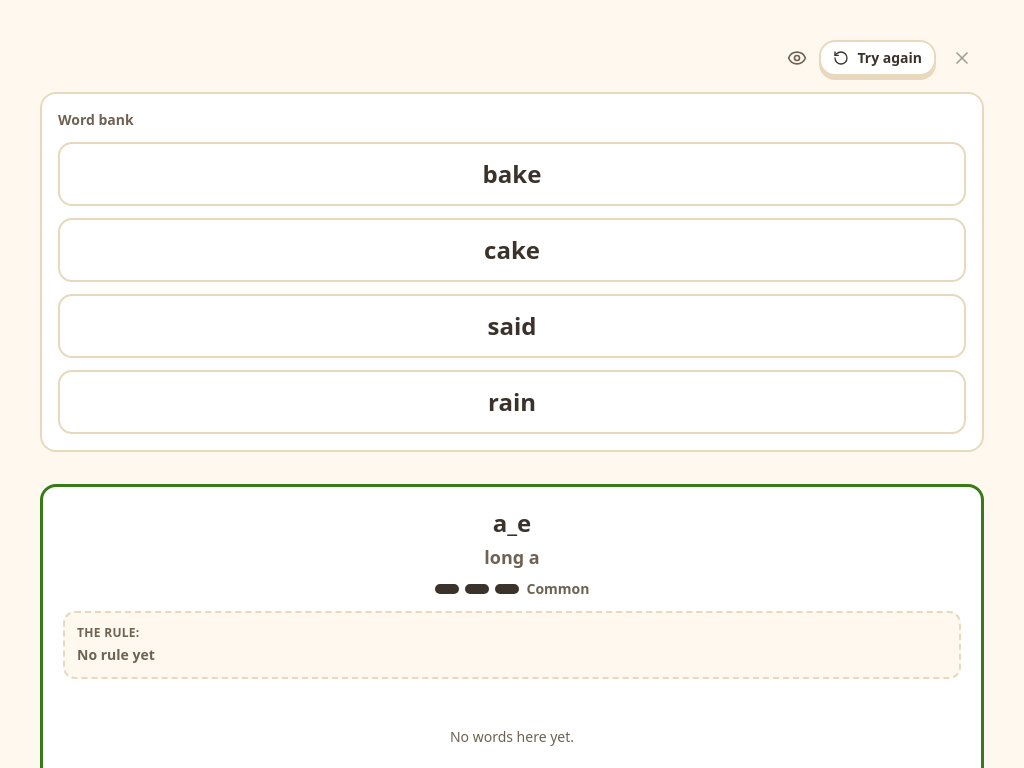
SortActivity on mobile › opens the placement bar with one destination per pattern when a word is tapped
This screenshot has width=1024, height=768.
Click the button with aria-label "Select the word cake": point(512, 250) [58,218,966,282]
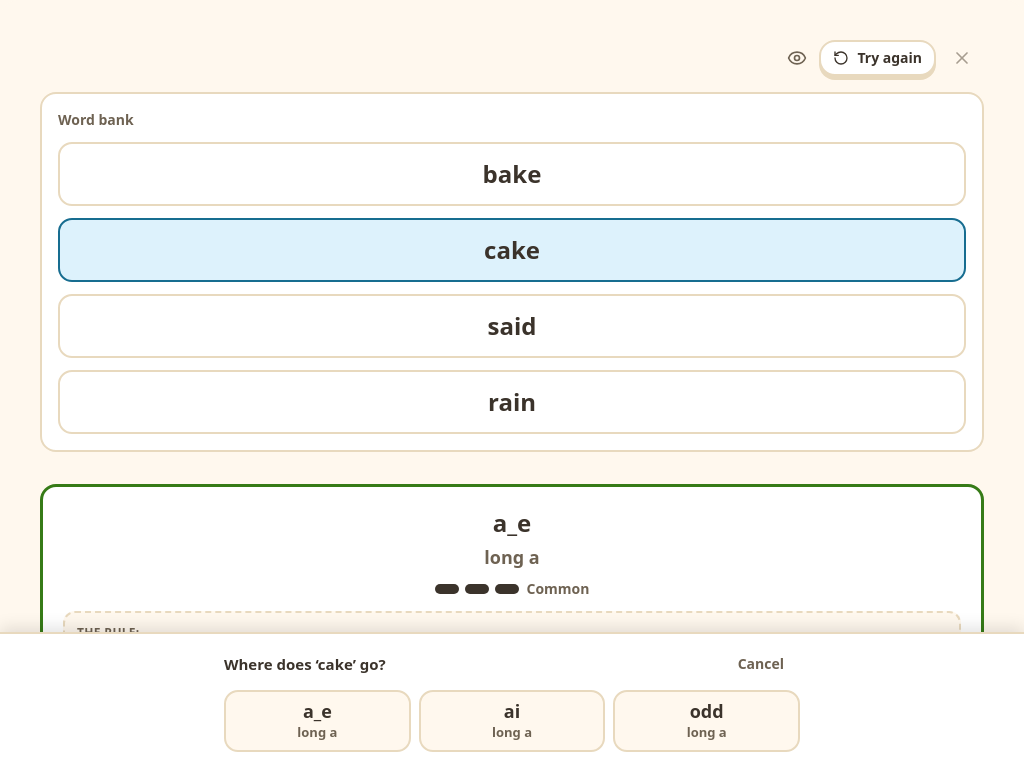
expect the element named "Choose where to put cake" is shown: met, box [0,632,1023,767]
expect the button with aria-label "Put cake in the a_e column" is shown: met, box [224,690,411,752]
expect the button with aria-label "Put cake in the ai column" is shown: met, box [419,690,605,752]
